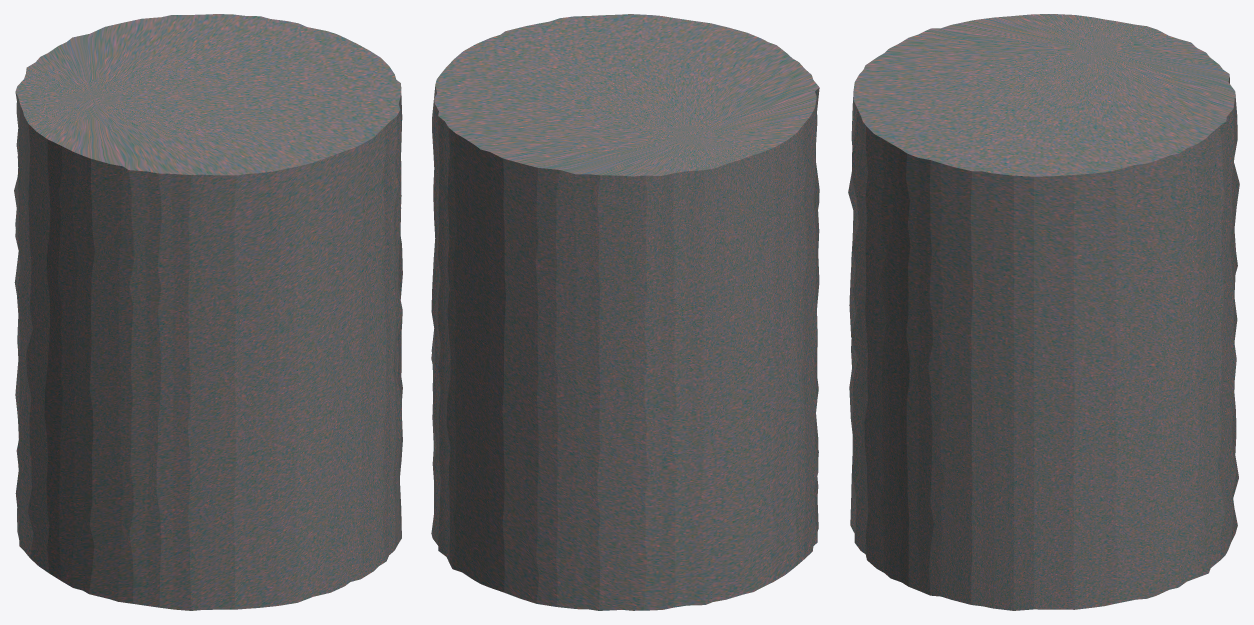
The model's file is barrel_49.dae.
3 renders of one model, left to right at view 1: azimuth 30°, elevation 25°; view 2: azimuth 150°, elevation 25°; view 3: azimuth 270°, elevation 25°, orthographic.
Parts seen in each view (by area): view 1: Cylinder; view 2: Cylinder; view 3: Cylinder.
Part boxes in pixels (bbox=[...]): Cylinder: bbox=[14, 14, 402, 610]; Cylinder: bbox=[431, 14, 819, 610]; Cylinder: bbox=[848, 14, 1239, 610].
Size of the model in its own units: 0.8182 by 0.818 by 1.
1 material, 1 textured.
